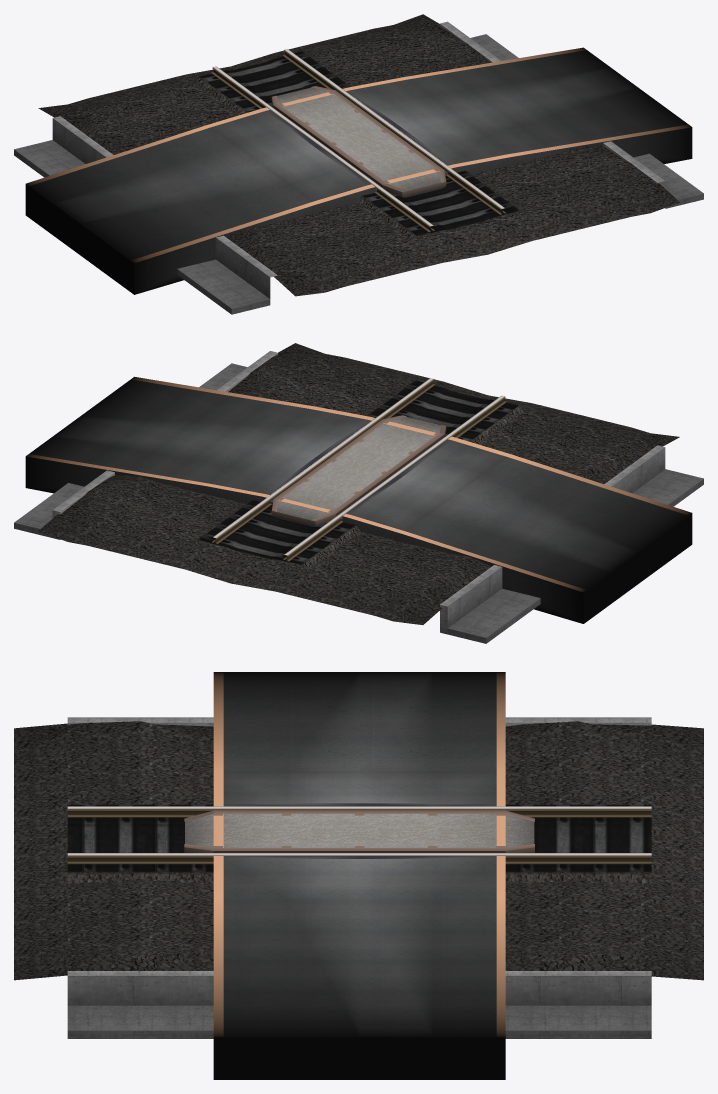
The model's file is KH_1RAIL_HUMIKIRI.glb.
3 views of the same model, one above another, from view 1: azimuth 30°, elevation 25°; view 2: azimuth 150°, elevation 25°; view 3: azimuth 270°, elevation 25° (orthographic). The views are drawn at different scales.
Visible parts, largest first — view 1: obj1; view 2: obj1; view 3: obj1.
Boxes of the visible parts, x1,y1,x2,y2 form: obj1: [14, 14, 703, 314]; obj1: [14, 343, 703, 643]; obj1: [14, 672, 703, 1079].
Bounding box in the file's own units: 37 × 3.14 × 29.53.
Materials: 8 (7 with a texture image).
